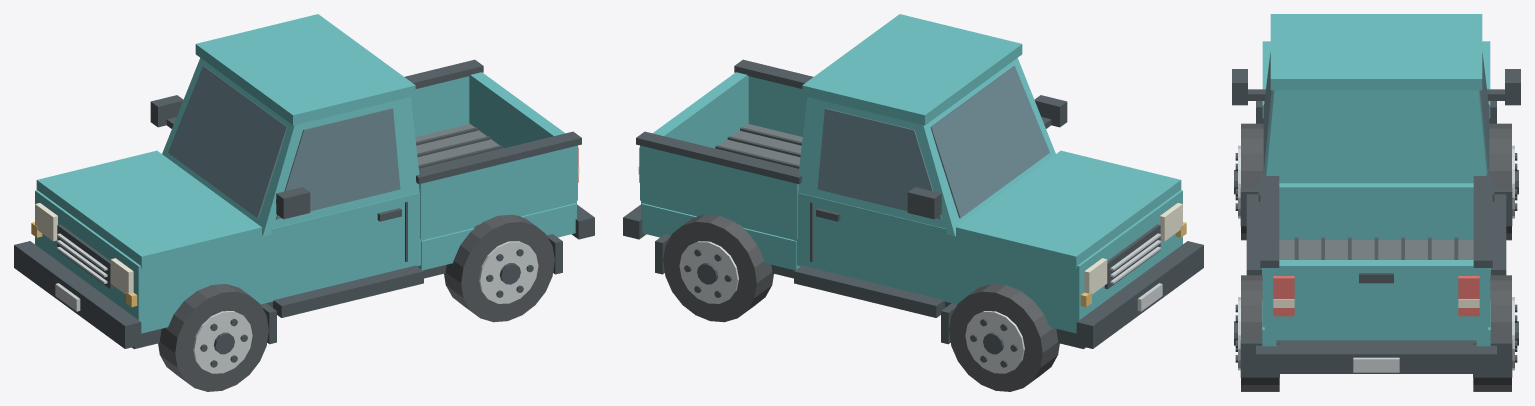
The model's file is small-truck.glb.
3 renders of one model, left to right at view 1: azimuth 30°, elevation 25°; view 2: azimuth 150°, elevation 25°; view 3: azimuth 270°, elevation 25°, orthographic. The views are drawn at different scales.
Visible parts, largest first — view 1: hood, roof, front_body, cab_lower, windshield, cargo_side_-1, side_window_-1, closed_cabin, tire_-1.2_-1, tire_1.27_-1, front_bumper, tailgate (+15 smaller); view 2: hood, roof, front_body, cab_lower, windshield, cargo_side_1, side_window_1, closed_cabin, tire_-1.2_1, tire_1.27_1, front_bumper, tailgate (+15 smaller); view 3: closed_cabin, roof, tailgate, bed_front_wall, rear_bumper, cargo_bed_liner, cargo_bed_floor, tire_1.27_-1, tire_1.27_1, bed_rail_-1, bed_rail_1, tire_-1.2_-1 (+20 smaller).
Part boxes in pixels (left/top/right/bottom): hood: left=36, top=150, right=261, bottom=268; roof: left=195, top=14, right=415, bottom=125; front_body: left=35, top=190, right=312, bottom=333; cab_lower: left=271, top=193, right=424, bottom=301; windshield: left=168, top=66, right=287, bottom=218; cargo_side_-1: left=419, top=145, right=577, bottom=238; side_window_-1: left=276, top=108, right=400, bottom=219; closed_cabin: left=162, top=58, right=419, bottom=235; tire_-1.2_-1: left=158, top=284, right=268, bottom=391; tire_1.27_-1: left=444, top=214, right=554, bottom=322; front_bumper: left=14, top=241, right=141, bottom=348; tailgate: left=469, top=72, right=564, bottom=148; hood: left=956, top=150, right=1181, bottom=268; roof: left=802, top=14, right=1022, bottom=125; front_body: left=905, top=190, right=1182, bottom=333; cab_lower: left=793, top=193, right=946, bottom=301; windshield: left=930, top=66, right=1049, bottom=218; cargo_side_1: left=640, top=145, right=798, bottom=238; side_window_1: left=817, top=108, right=941, bottom=219; closed_cabin: left=798, top=58, right=1055, bottom=235; tire_-1.2_1: left=949, top=284, right=1059, bottom=391; tire_1.27_1: left=663, top=214, right=773, bottom=322; front_bumper: left=1076, top=241, right=1203, bottom=348; tailgate: left=653, top=72, right=748, bottom=148; closed_cabin: left=1265, top=90, right=1487, bottom=183; roof: left=1270, top=14, right=1482, bottom=90; tailgate: left=1269, top=260, right=1483, bottom=327; bed_front_wall: left=1279, top=183, right=1473, bottom=239; rear_bumper: left=1256, top=345, right=1496, bottom=373; cargo_bed_liner: left=1279, top=240, right=1473, bottom=259; cargo_bed_floor: left=1264, top=323, right=1488, bottom=340; tire_1.27_-1: left=1241, top=275, right=1279, bottom=391; tire_1.27_1: left=1473, top=275, right=1511, bottom=391; bed_rail_-1: left=1260, top=174, right=1279, bottom=267; bed_rail_1: left=1473, top=174, right=1492, bottom=267; tire_-1.2_-1: left=1241, top=123, right=1263, bottom=240.
Size of the model in its own units: 4.12 by 2.02 by 1.99.
